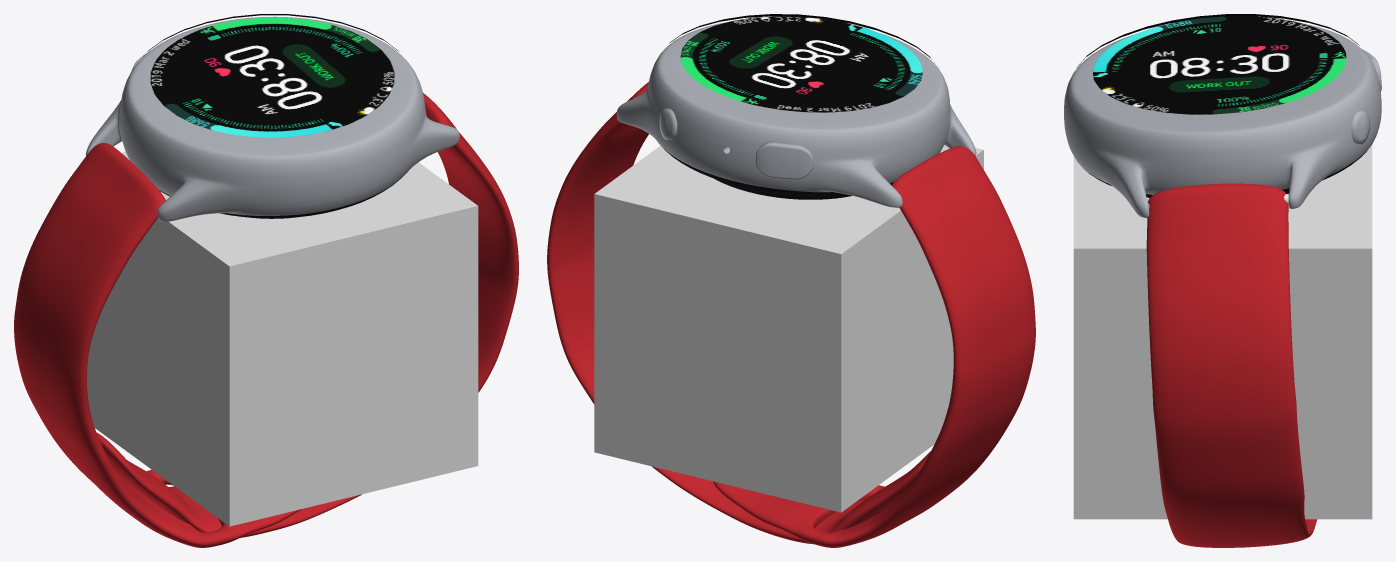
Rendered from SmartWatch.glb.
The picture shows the model from 3 angles, left to right: view 1: azimuth 30°, elevation 25°; view 2: azimuth 150°, elevation 25°; view 3: azimuth 270°, elevation 25°; orthographic projection. The views are drawn at different scales.
Parts seen in each view (by area): view 1: Cube, Frame, UpperBelt, Glass, LowerBelt; view 2: Cube, UpperBelt, Frame, Glass, LowerBelt, UpperButton; view 3: Cube, LowerBelt, Frame, Glass, LowerButton.
Part boxes in pixels (x1,y1,x2,y2): Cube: (87,152,478,526); Frame: (85,16,459,221); UpperBelt: (14,143,301,547); Glass: (147,14,398,137); LowerBelt: (96,93,518,537); Cube: (594,145,983,512); UpperBelt: (713,146,1035,547); Frame: (616,22,976,207); Glass: (669,14,934,112); LowerBelt: (547,82,930,544); UpperButton: (755,141,813,179); Cube: (1073,144,1372,519); LowerBelt: (1146,183,1317,547); Frame: (1064,23,1381,217); Glass: (1076,14,1359,114); LowerButton: (1351,111,1370,144).
Size of the model in its own units: 3.58 by 3.5 by 2.13.
Materials: 6 (1 with a texture image).
